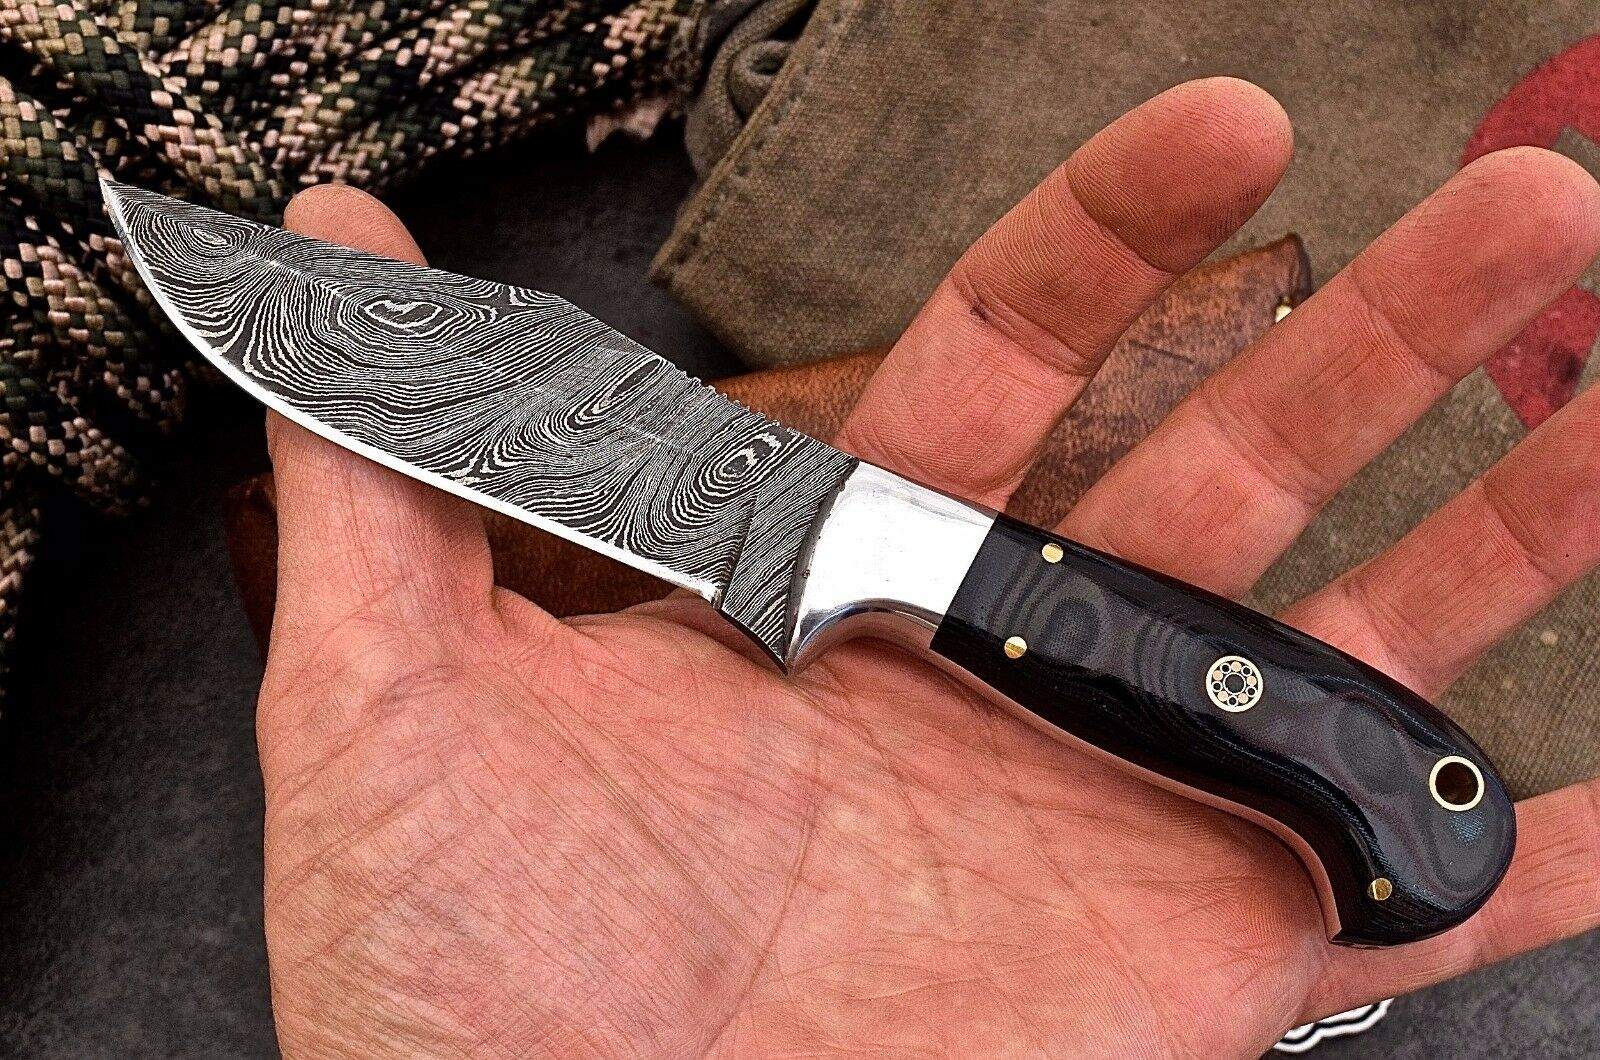knief: (83, 138, 1525, 909)
